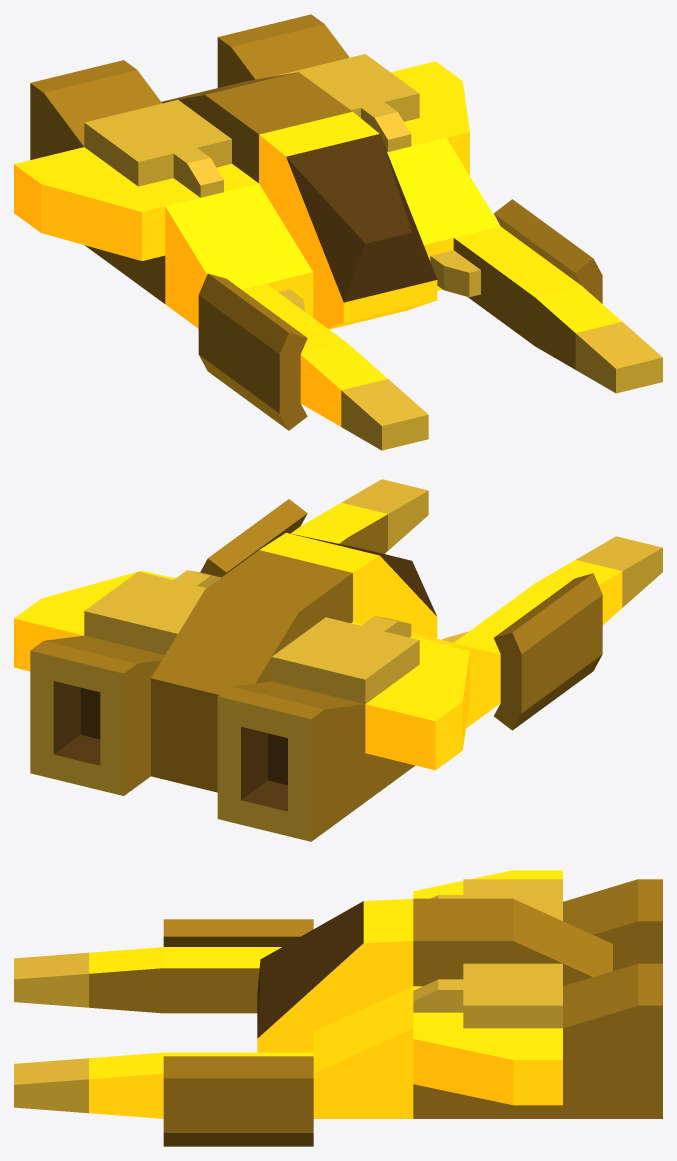
Rendered from desert.dae.
3 views of the same model, one above another, from view 1: azimuth 30°, elevation 25°; view 2: azimuth 150°, elevation 25°; view 3: azimuth 270°, elevation 25° (orthographic). The views are drawn at different scales.
Visible parts, largest first — view 1: craft_miner; view 2: craft_miner; view 3: craft_miner.
Part boxes in pixels (x1,y1,x2,y2): craft_miner: (14,14,662,450); craft_miner: (14,479,662,841); craft_miner: (14,870,662,1146).
Bounding box in the file's own units: 1.8 × 0.7 × 2.6.
